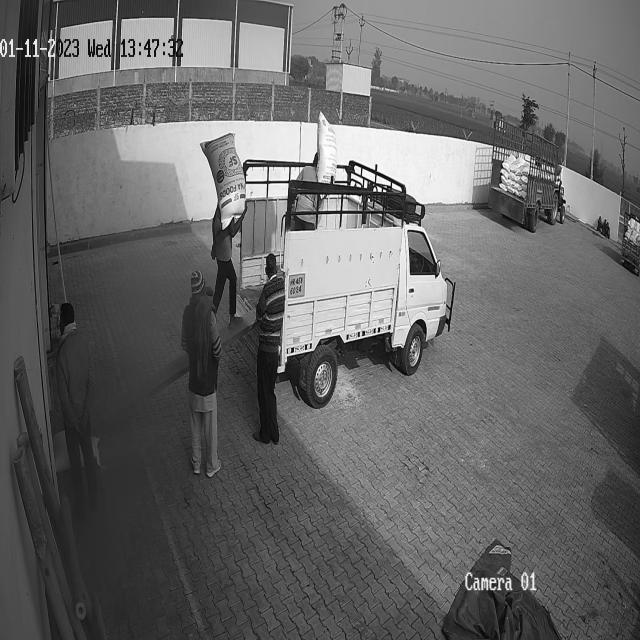sack: (200, 133, 246, 230)
